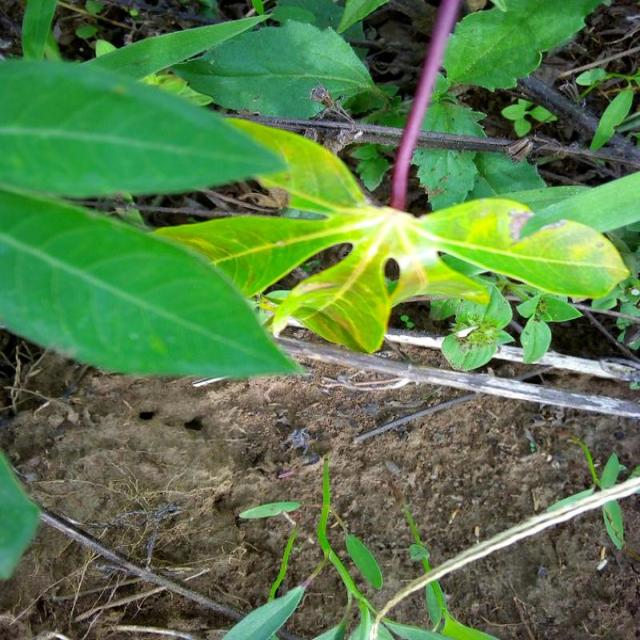cassava leaf: (147, 113, 630, 356), (0, 183, 311, 381), (0, 56, 287, 200), (169, 17, 384, 122)
